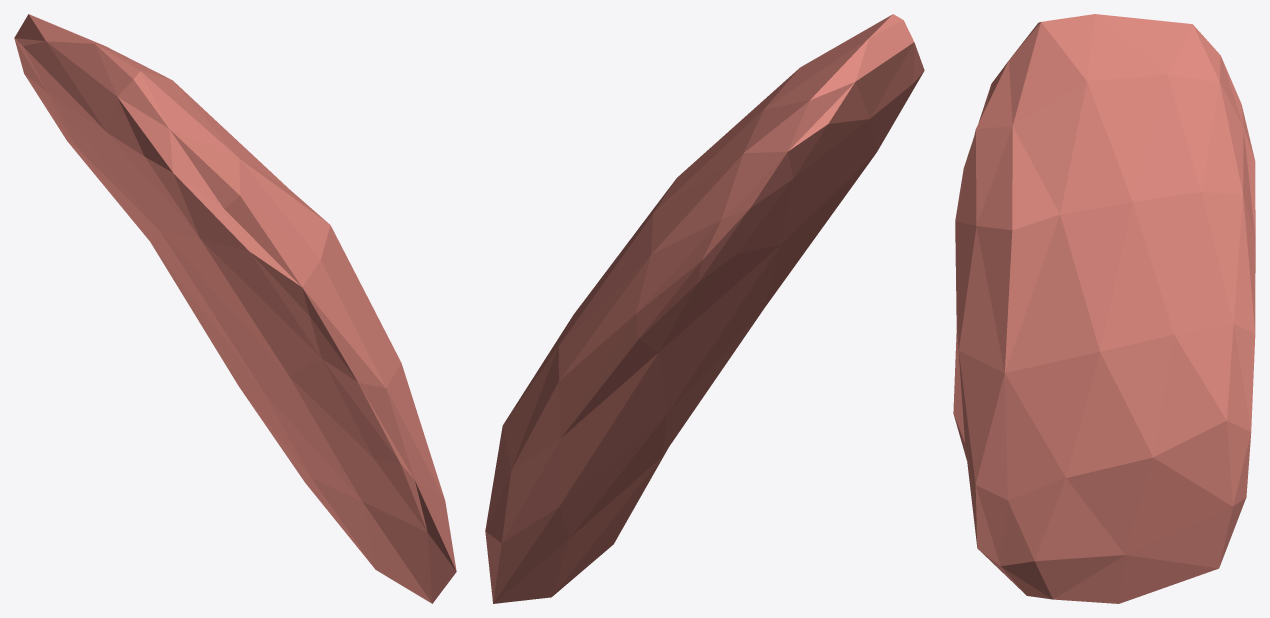
3 views of the same model, side by side, from view 1: azimuth 30°, elevation 25°; view 2: azimuth 150°, elevation 25°; view 3: azimuth 270°, elevation 25° (orthographic). The views are drawn at different scales.
Visible parts, largest first — view 1: 338.obj; view 2: 338.obj; view 3: 338.obj.
Boxes of the visible parts, x1=… form: 338.obj: x1=14, y1=14, x2=456, y2=603; 338.obj: x1=485, y1=14, x2=924, y2=603; 338.obj: x1=953, y1=14, x2=1255, y2=603.
Bounding box in the file's own units: 284 × 501 × 288.
